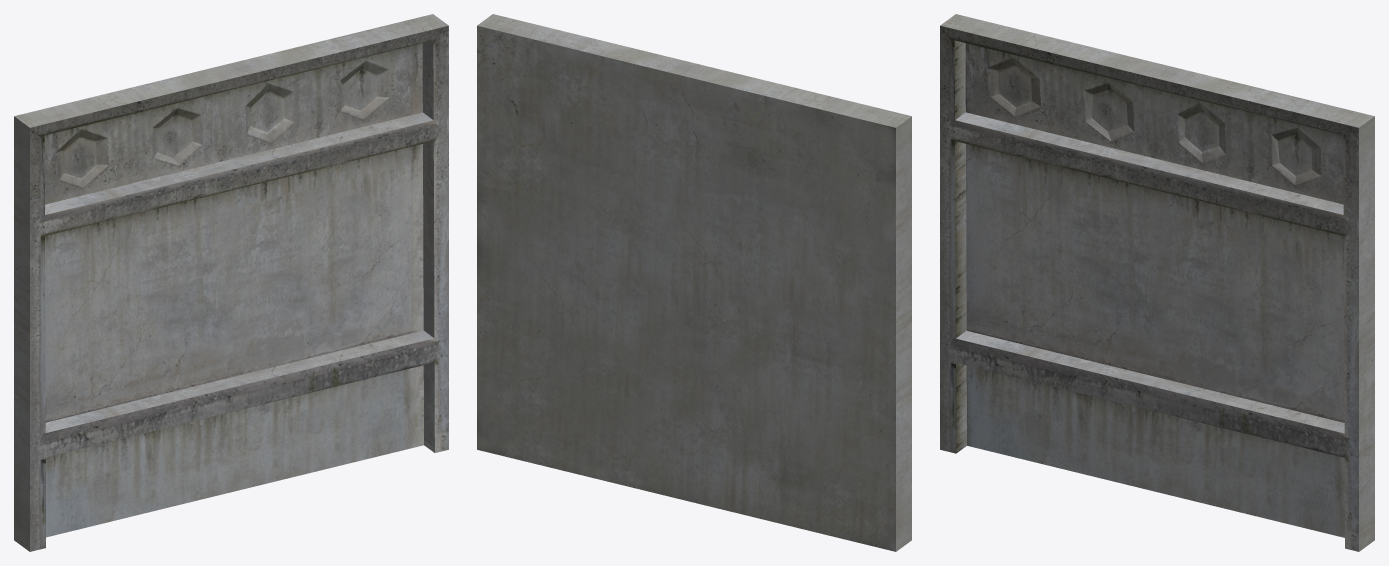
3 renders of one model, left to right at view 1: azimuth 30°, elevation 25°; view 2: azimuth 150°, elevation 25°; view 3: azimuth 330°, elevation 25°, orthographic.
Visible parts, largest first — view 1: Zabor_02; view 2: Zabor_02; view 3: Zabor_02.
Boxes of the visible parts, box(x1,y1,x2,y2) form: Zabor_02: box(14, 14, 448, 551); Zabor_02: box(477, 14, 911, 551); Zabor_02: box(940, 14, 1374, 551).
Bounding box in the file's own units: 214 × 207 × 14.07.
